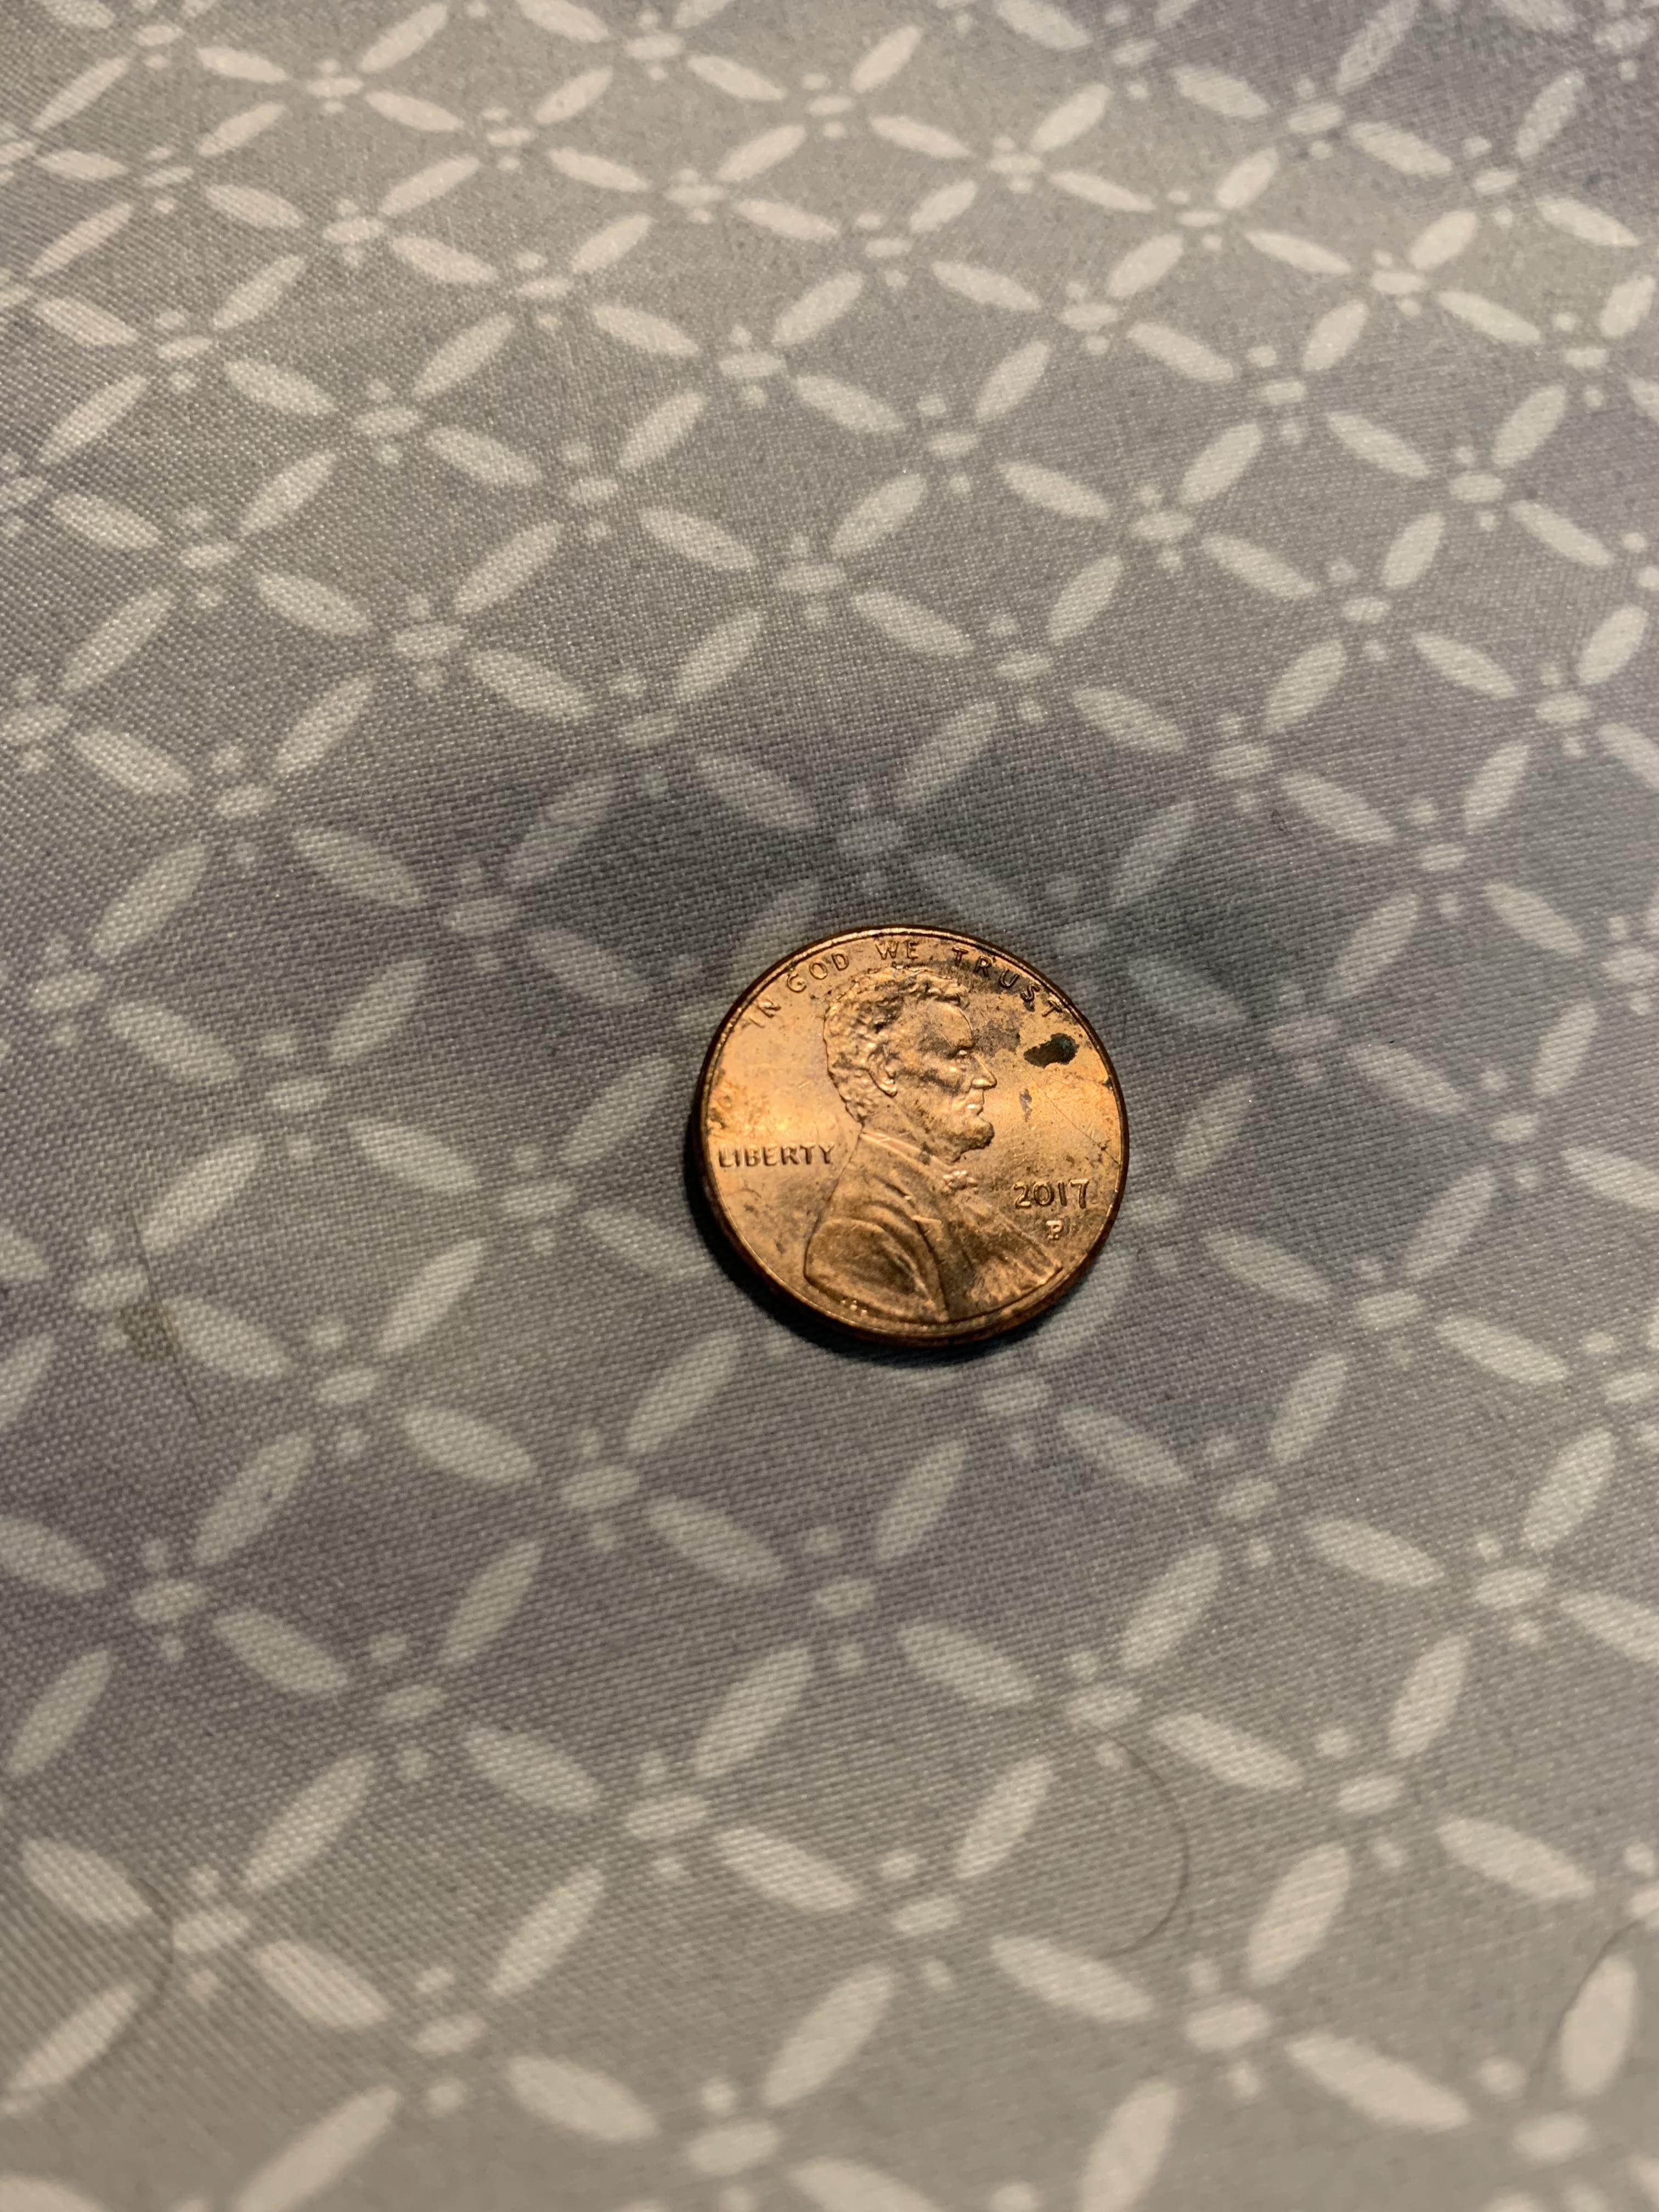Penny: (681, 909, 1147, 1364)
